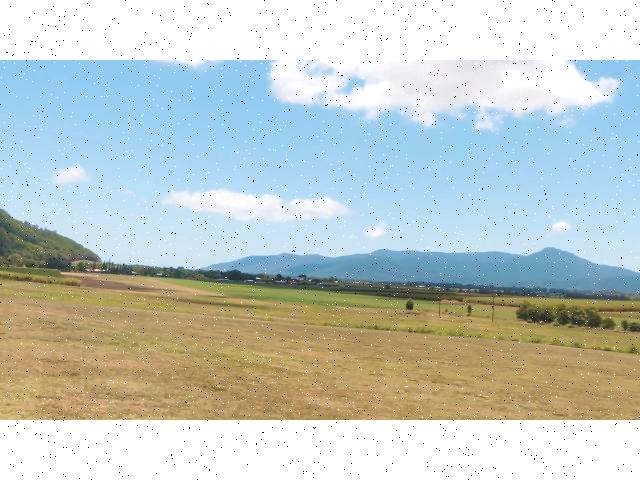Anti-Drone: (278, 184, 296, 199)
